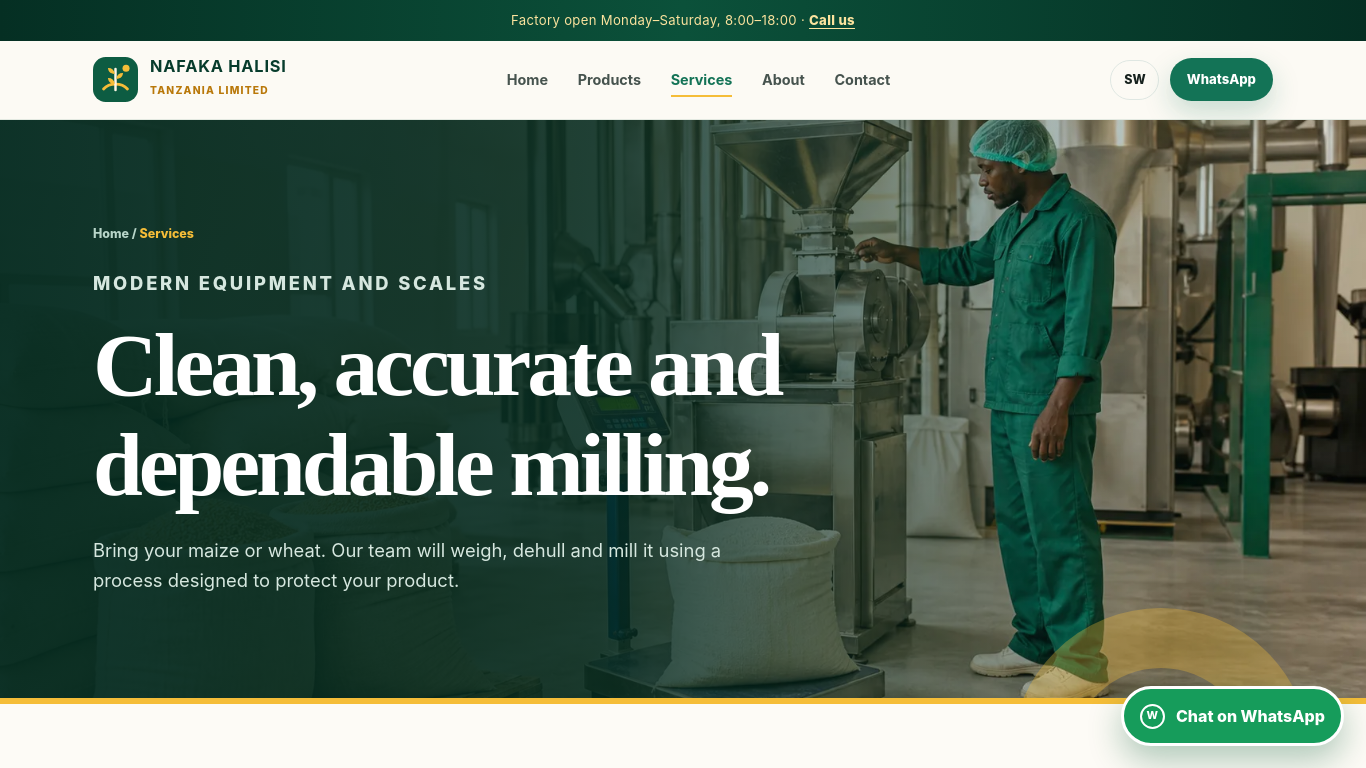
Scenario: bilingual client routing › switches to the equivalent page in the other language
Step 1. Click the link "SW" → [1135, 80], box x1=1110 y1=60 x2=1159 y2=100
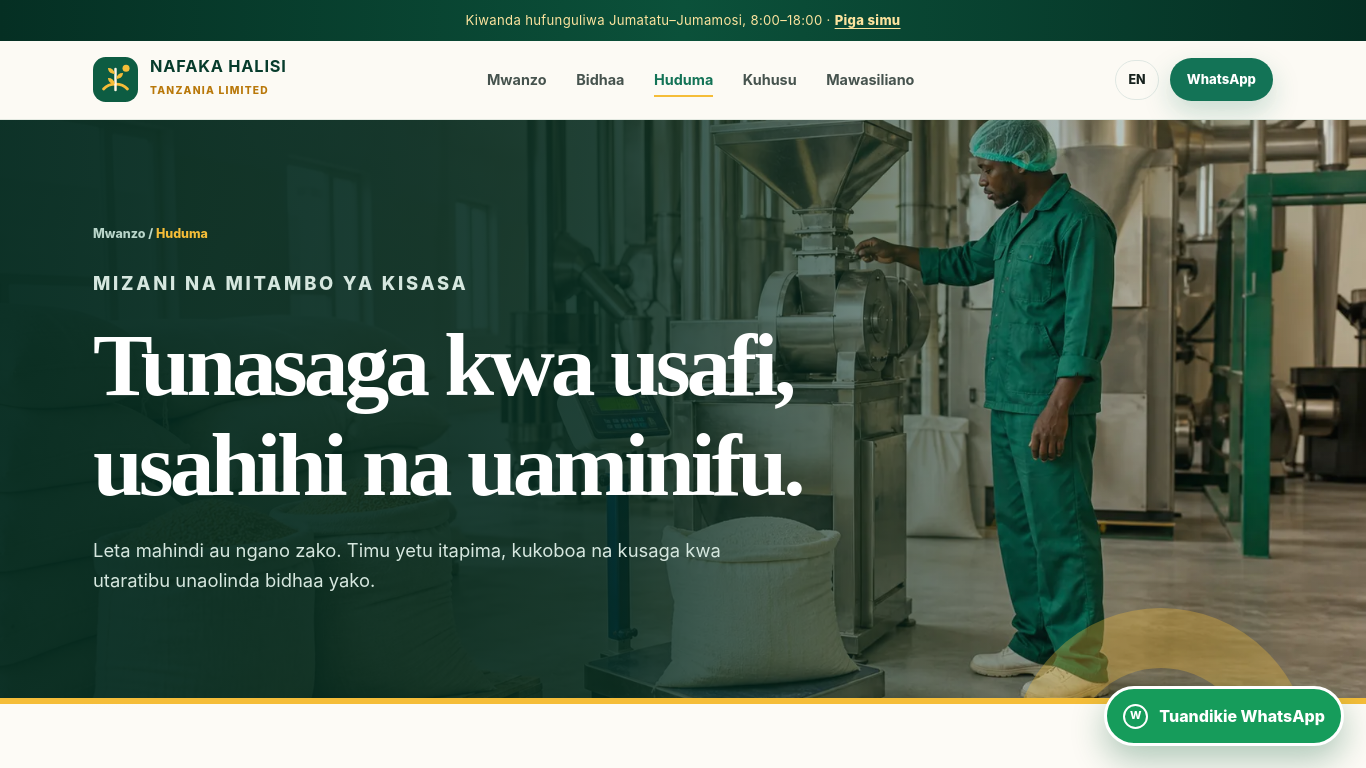
Expected: the heading "Tunasaga kwa usafi, usahihi na uaminifu." is shown, x1=93 y1=315 x2=873 y2=516
